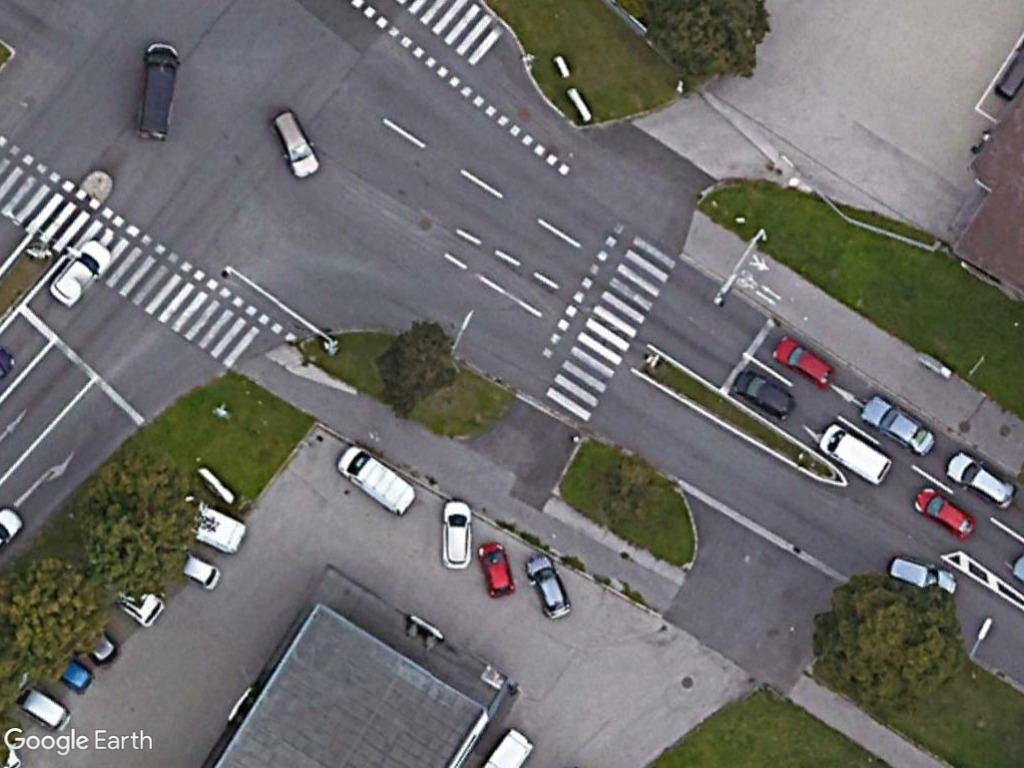car: (856, 393, 939, 460), (46, 234, 113, 309), (943, 446, 1019, 512), (768, 332, 841, 396), (887, 548, 960, 604), (268, 106, 321, 181), (522, 547, 573, 623), (729, 366, 799, 421), (911, 485, 978, 539), (438, 493, 475, 572), (476, 537, 515, 601)
van: (330, 438, 418, 521), (132, 34, 182, 145), (816, 419, 893, 485)
